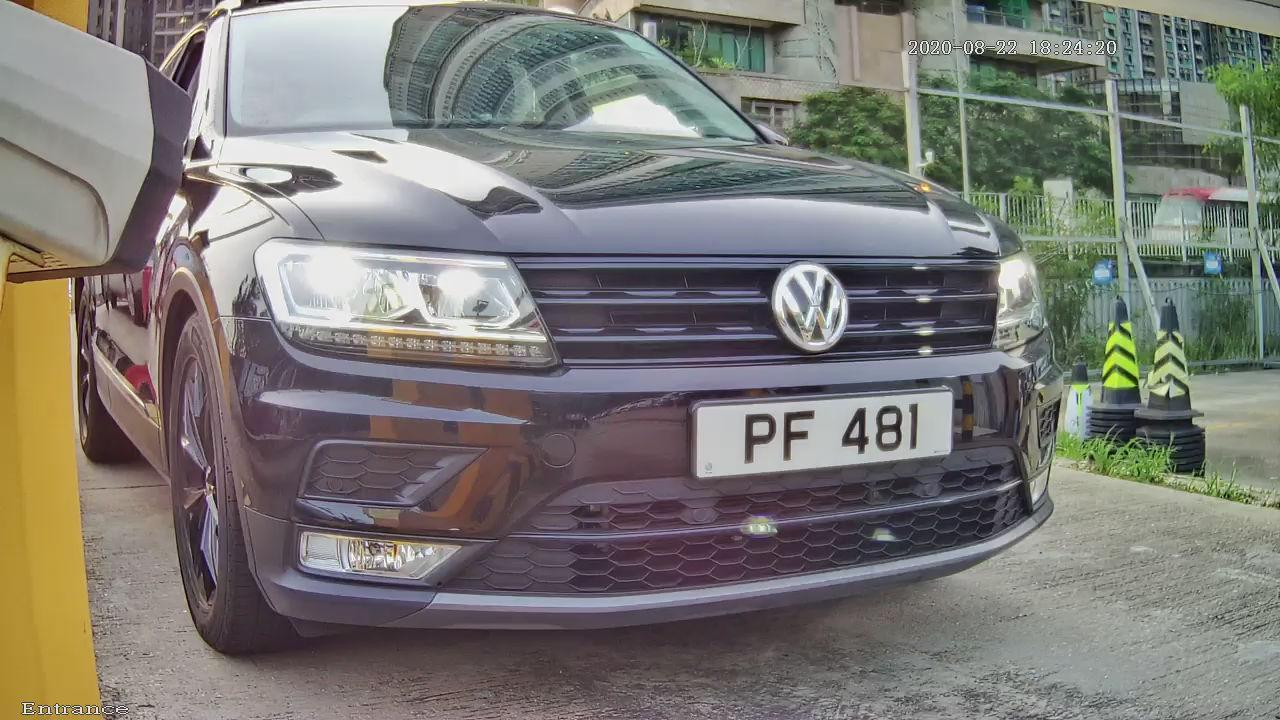Car: (35, 7, 1138, 676)
License Plate: (692, 373, 961, 492)
